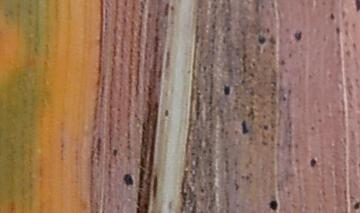tarspot: (151, 173, 159, 201), (239, 119, 250, 136), (122, 173, 135, 187), (268, 198, 279, 213), (246, 106, 256, 121), (164, 49, 171, 70), (189, 199, 199, 213), (153, 34, 160, 52), (222, 83, 231, 97), (256, 33, 266, 45), (194, 92, 200, 112), (166, 199, 174, 213), (206, 93, 214, 107), (266, 35, 277, 45), (193, 110, 202, 122), (94, 136, 101, 151), (156, 67, 164, 80), (293, 30, 302, 41), (225, 66, 236, 75), (163, 2, 170, 16), (240, 61, 248, 73), (352, 1, 360, 12), (308, 157, 316, 168), (206, 180, 214, 191), (194, 157, 201, 169), (334, 25, 342, 35), (286, 119, 294, 129), (181, 190, 188, 201), (269, 131, 276, 142), (240, 53, 249, 61), (286, 141, 292, 153), (353, 200, 360, 210), (233, 181, 240, 191), (339, 9, 346, 19), (343, 28, 350, 38), (269, 80, 279, 87), (220, 34, 227, 44), (261, 123, 269, 131), (248, 71, 256, 79), (269, 1, 277, 9), (178, 205, 186, 213), (348, 194, 356, 202), (111, 148, 118, 157), (329, 12, 336, 21), (238, 78, 247, 85), (201, 64, 208, 73), (222, 145, 229, 154), (269, 120, 276, 129), (243, 161, 250, 170), (239, 30, 246, 39), (326, 71, 333, 80), (268, 99, 278, 105), (261, 139, 268, 147), (153, 26, 161, 33), (217, 107, 225, 114), (344, 49, 351, 57), (206, 160, 213, 168), (222, 158, 229, 166), (269, 92, 277, 99), (320, 188, 327, 196), (115, 116, 122, 124), (125, 154, 133, 161), (256, 92, 264, 99), (270, 50, 277, 58), (255, 44, 262, 52), (185, 67, 192, 75), (89, 148, 94, 159), (163, 108, 169, 117), (223, 165, 229, 174), (114, 202, 120, 211), (212, 3, 219, 10), (232, 128, 239, 135), (199, 187, 206, 194), (284, 26, 291, 33), (293, 157, 300, 164), (275, 140, 282, 147), (146, 90, 153, 97), (146, 84, 153, 91), (138, 1, 145, 8), (332, 170, 339, 177), (107, 169, 113, 177), (135, 49, 141, 57), (309, 124, 315, 132), (154, 15, 160, 23), (219, 126, 225, 134), (286, 87, 292, 95), (247, 90, 255, 96), (351, 41, 357, 49), (209, 37, 215, 45), (208, 61, 214, 69), (231, 105, 239, 111), (233, 45, 241, 51), (193, 85, 201, 91), (247, 155, 253, 163), (279, 58, 285, 65), (126, 143, 132, 150), (225, 25, 231, 32), (264, 27, 271, 33), (251, 61, 257, 68), (207, 147, 213, 154), (201, 148, 207, 155), (190, 150, 196, 157), (281, 94, 287, 101), (317, 117, 324, 123), (89, 158, 95, 165), (350, 22, 356, 29), (259, 3, 265, 10), (270, 86, 277, 92), (293, 142, 299, 149), (208, 75, 215, 81), (248, 99, 255, 105), (261, 47, 267, 54), (261, 113, 267, 120), (191, 192, 198, 198), (268, 108, 275, 114), (205, 171, 212, 177), (138, 8, 145, 14), (137, 14, 144, 20), (316, 107, 322, 114), (170, 4, 175, 12), (224, 128, 229, 136), (146, 12, 152, 18), (128, 47, 134, 53), (210, 23, 216, 29), (203, 86, 209, 92), (244, 174, 250, 180), (343, 40, 349, 46), (353, 77, 359, 83), (232, 169, 238, 175), (233, 98, 239, 104), (180, 200, 186, 206), (234, 90, 240, 96), (306, 73, 312, 79), (335, 41, 341, 47), (234, 202, 240, 208), (133, 112, 138, 119), (107, 162, 112, 169), (287, 52, 292, 59), (320, 1, 327, 6), (286, 190, 291, 197), (116, 106, 121, 112), (95, 151, 101, 156), (59, 142, 64, 148), (207, 204, 212, 210), (343, 20, 348, 26), (233, 160, 238, 166), (234, 51, 240, 56), (210, 49, 215, 55), (207, 72, 214, 76), (357, 161, 360, 167)
